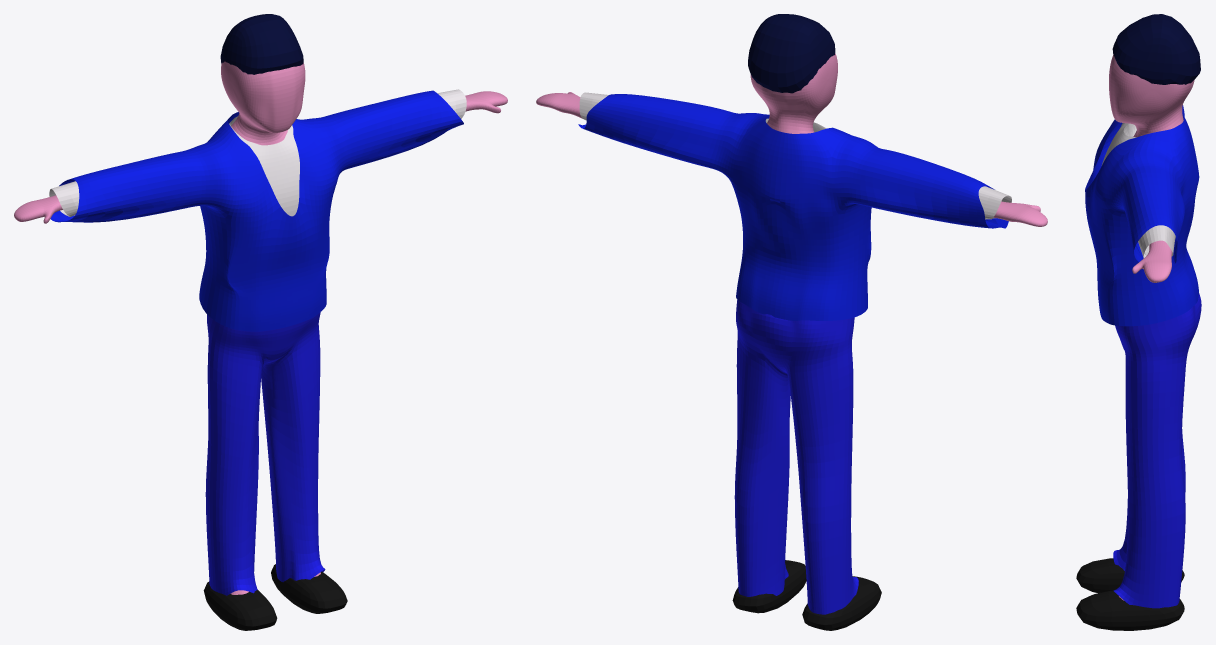
Rendered from Detectiveropa.fbx.
3 renders of one model, left to right at view 1: azimuth 30°, elevation 25°; view 2: azimuth 150°, elevation 25°; view 3: azimuth 270°, elevation 25°, orthographic. The views are drawn at different scales.
Visible parts, largest first — view 1: Sphere.002, Sphere.001, Sphere, Cubo, Cubo.001, Sphere.003; view 2: Sphere.002, Sphere.001, Cubo.001, Sphere, Cubo, Sphere.003; view 3: Sphere.001, Sphere.002, Sphere, Cubo.001, Cubo, Sphere.003.
Part boxes in pixels (x1,y1,x2,y2): Sphere.002: (50, 90, 463, 331); Sphere.001: (205, 312, 325, 595); Sphere: (14, 61, 507, 594); Cubo: (203, 564, 347, 630); Cubo.001: (220, 14, 303, 74); Sphere.003: (49, 89, 466, 216); Sphere.002: (578, 94, 1008, 320); Sphere.001: (734, 300, 858, 614); Cubo.001: (748, 14, 835, 93); Sphere: (536, 53, 1047, 226); Cubo: (732, 560, 881, 630); Sphere.003: (579, 92, 1011, 219); Sphere.001: (1113, 294, 1201, 608); Sphere.002: (1085, 105, 1199, 326); Sphere: (1109, 54, 1194, 600); Cubo.001: (1112, 14, 1200, 84); Cubo: (1076, 558, 1184, 630); Sphere.003: (1101, 123, 1175, 258).
Size of the model in its own units: 434 by 492 by 94.65.
